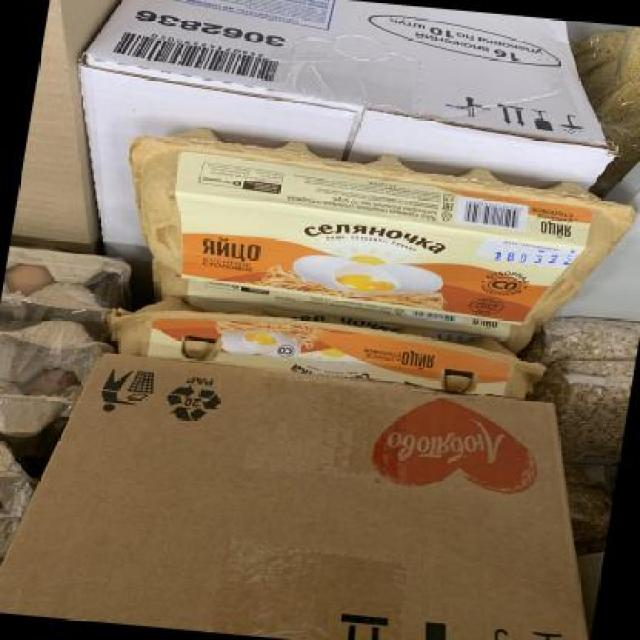Egg: (105, 121, 640, 331), (99, 290, 552, 402), (534, 353, 635, 467)
